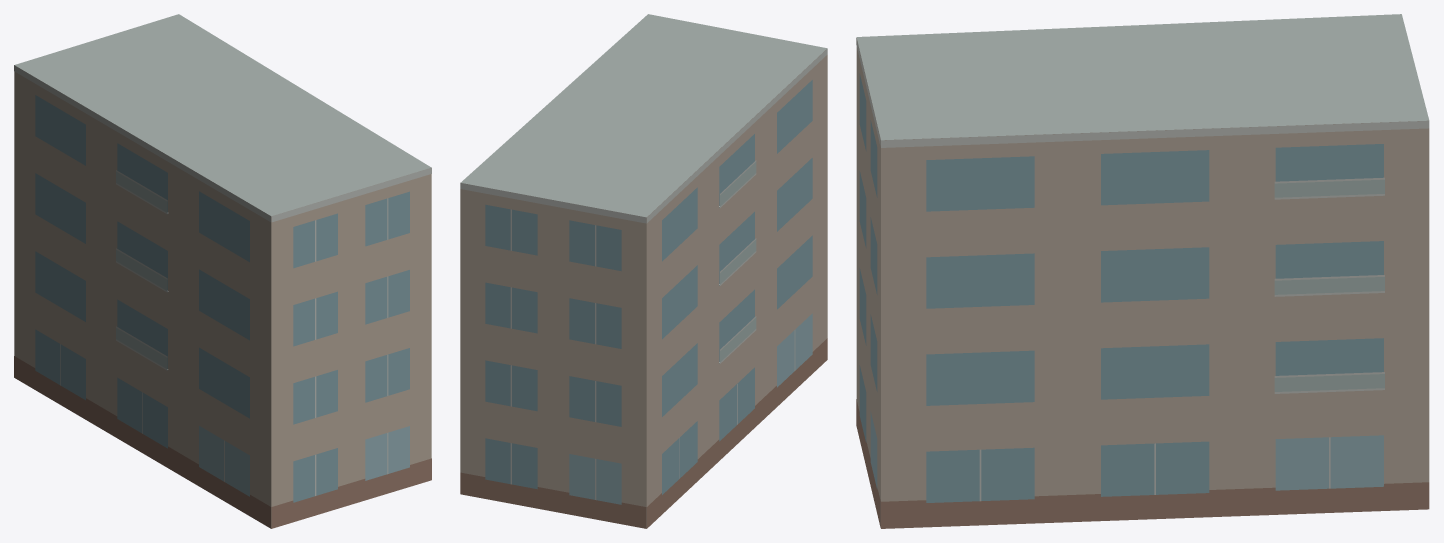
Rendered from survey-upis-32702351.glb.
The picture shows the model from 3 angles, left to right: view 1: azimuth 30°, elevation 25°; view 2: azimuth 150°, elevation 25°; view 3: azimuth 270°, elevation 25°; orthographic projection. The views are drawn at different scales.
Parts seen in each view (by area): view 1: survey-upis-32702351.tmp; view 2: survey-upis-32702351.tmp; view 3: survey-upis-32702351.tmp.
Boxes of the visible parts, bbox=[...] form: survey-upis-32702351.tmp: bbox=[14, 14, 431, 528]; survey-upis-32702351.tmp: bbox=[460, 14, 827, 528]; survey-upis-32702351.tmp: bbox=[856, 14, 1429, 528].
Bounding box in the file's own units: 8.51 × 12.2 × 16.31.
